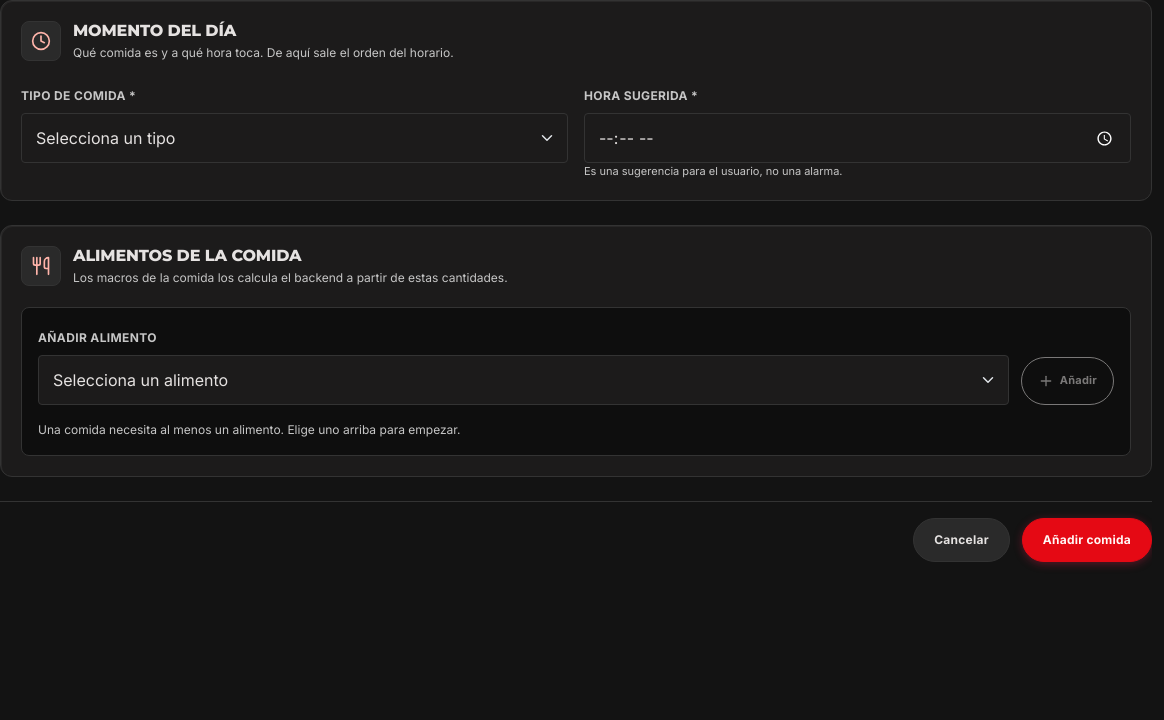
Test case: ComidaForm › deja retirar un alimento de la comida
Select "Avena" in the dropdown labelled "Añadir alimento". click: (523, 380)
box: [38,355,1009,405]
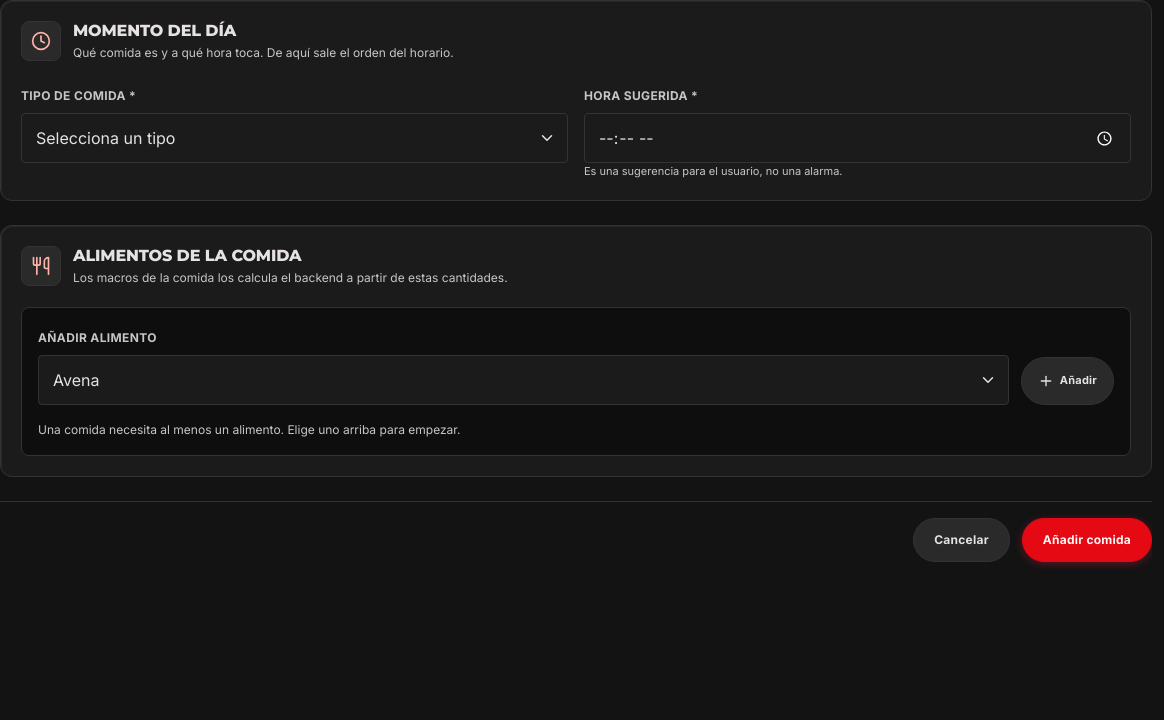
Click the button "Añadir". click: (1067, 381)
box: [1021,357,1114,405]
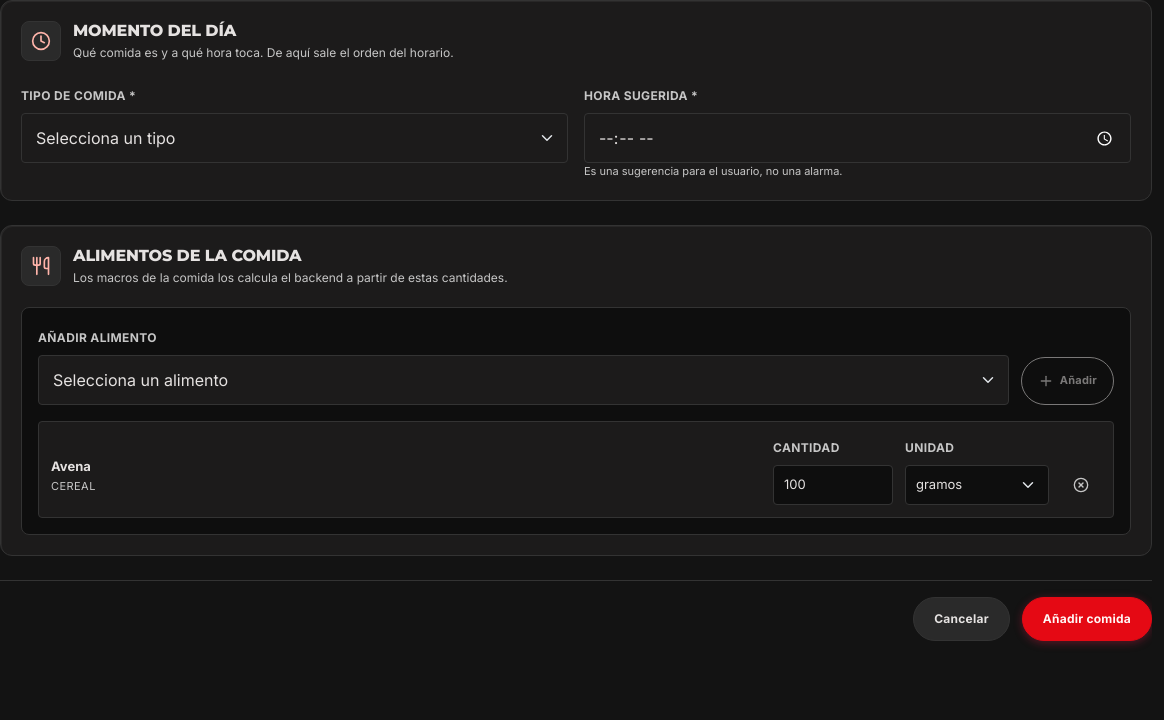
Select "Plátano" in the dropdown labelled "Añadir alimento". click: (523, 380)
box: [38,355,1009,405]
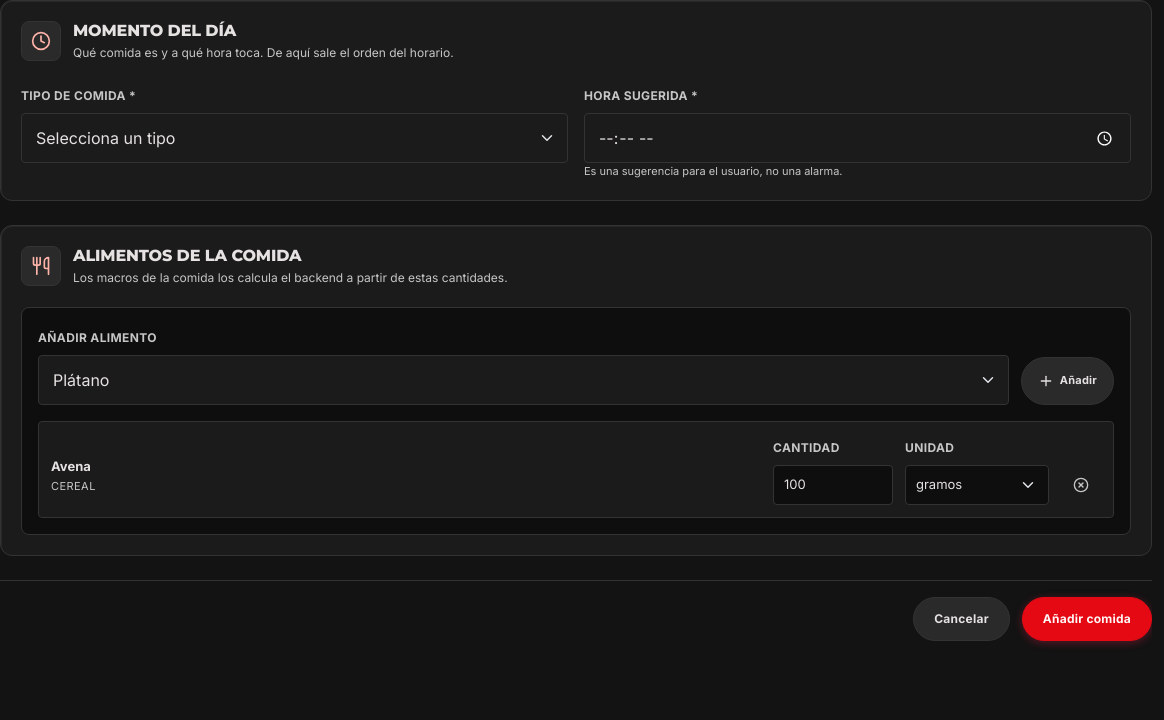
Click the button "Añadir". click: (1067, 381)
box: [1021,357,1114,405]
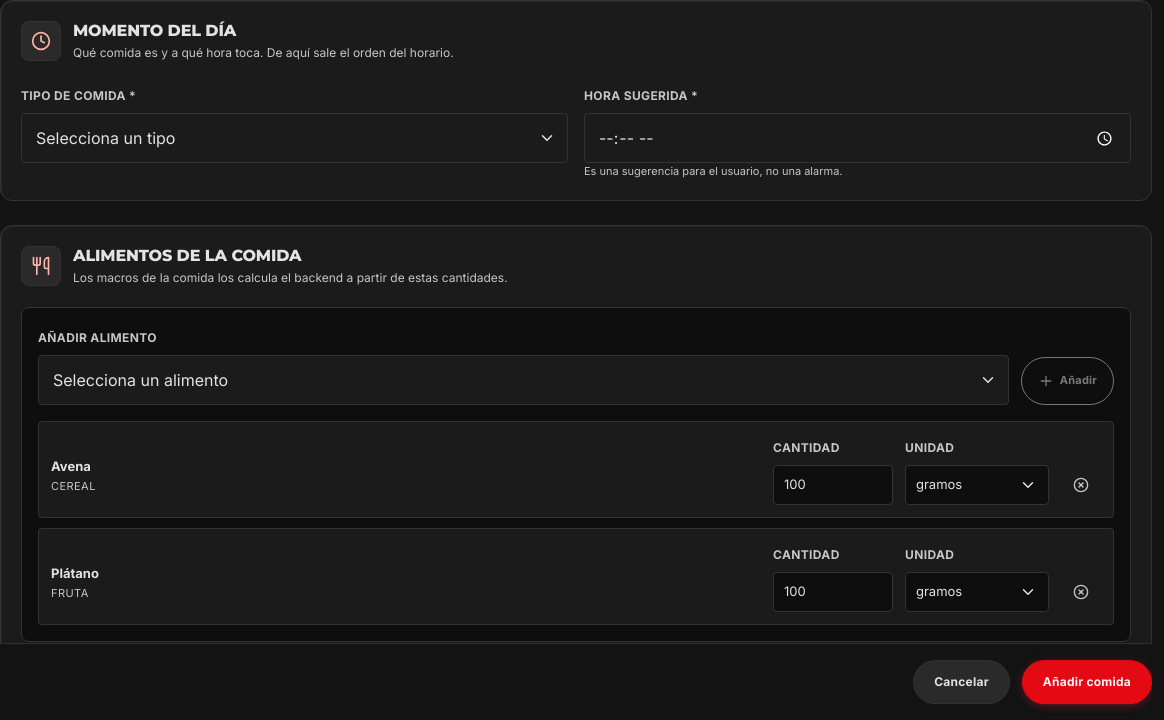
Click the button named "Quitar Plátano de la comida". click: (1081, 592)
box: [1061,572,1101,612]
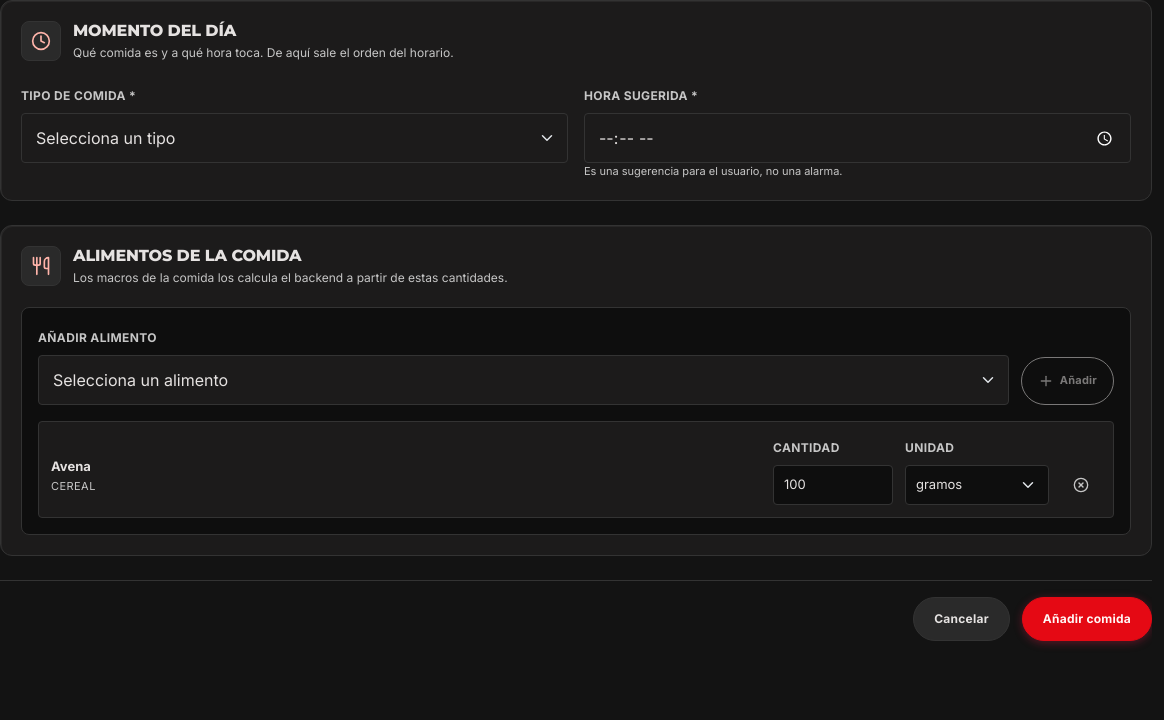
Expected: the number of list items is 1, [38,421,1114,518]
